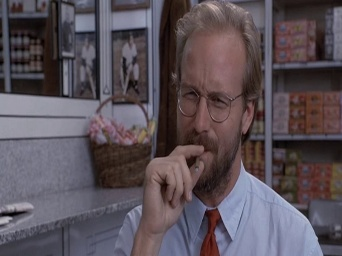smoke: (191, 148, 201, 170)
